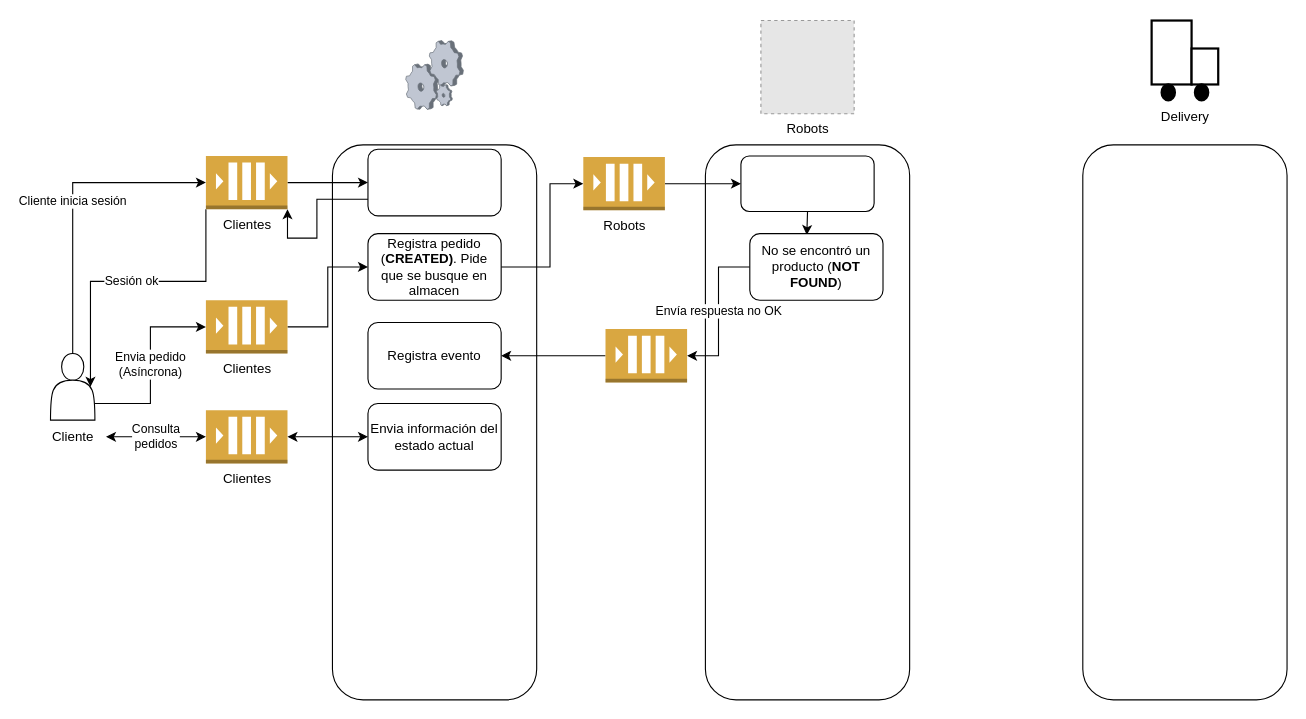
Some shapes in this 1306 by 719 pixel diagram are drawn without their labels. Grey dashed boxes stand in for pictures. Each missing label, with the box of its shape:
Controlador: (405, 40, 463, 109)
Credenciales correctas. Envia info de usuario: (367, 148, 501, 216)
Recibe petición de búsqueda ( PROCESSING): (740, 155, 874, 211)
Robots - respuesta: (604, 328, 687, 382)
